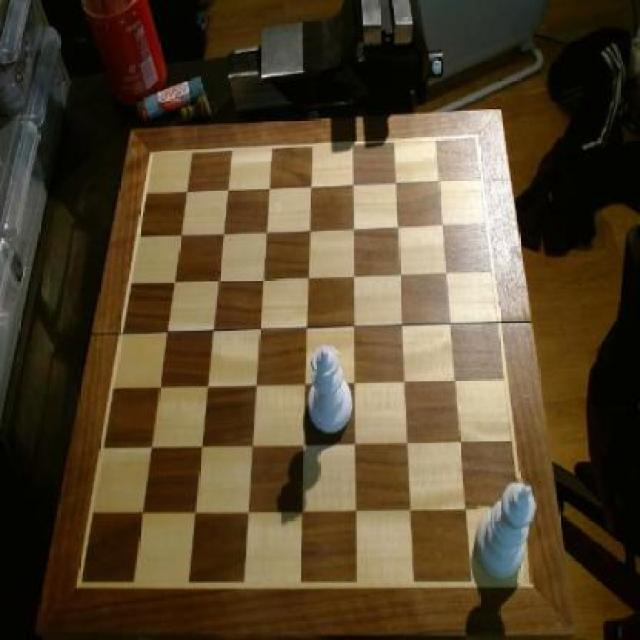white-bishop: (476, 476, 538, 582)
white-pawn: (306, 343, 354, 436)
